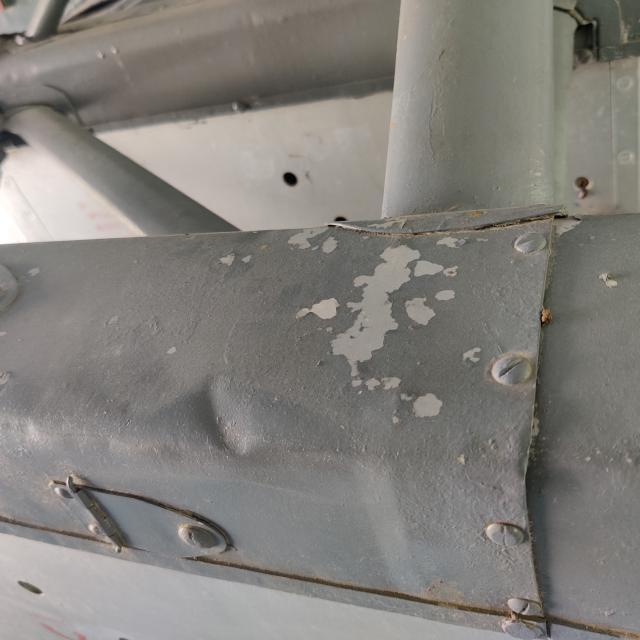dent: (177, 371, 264, 472)
paint-off: (275, 224, 492, 429)
